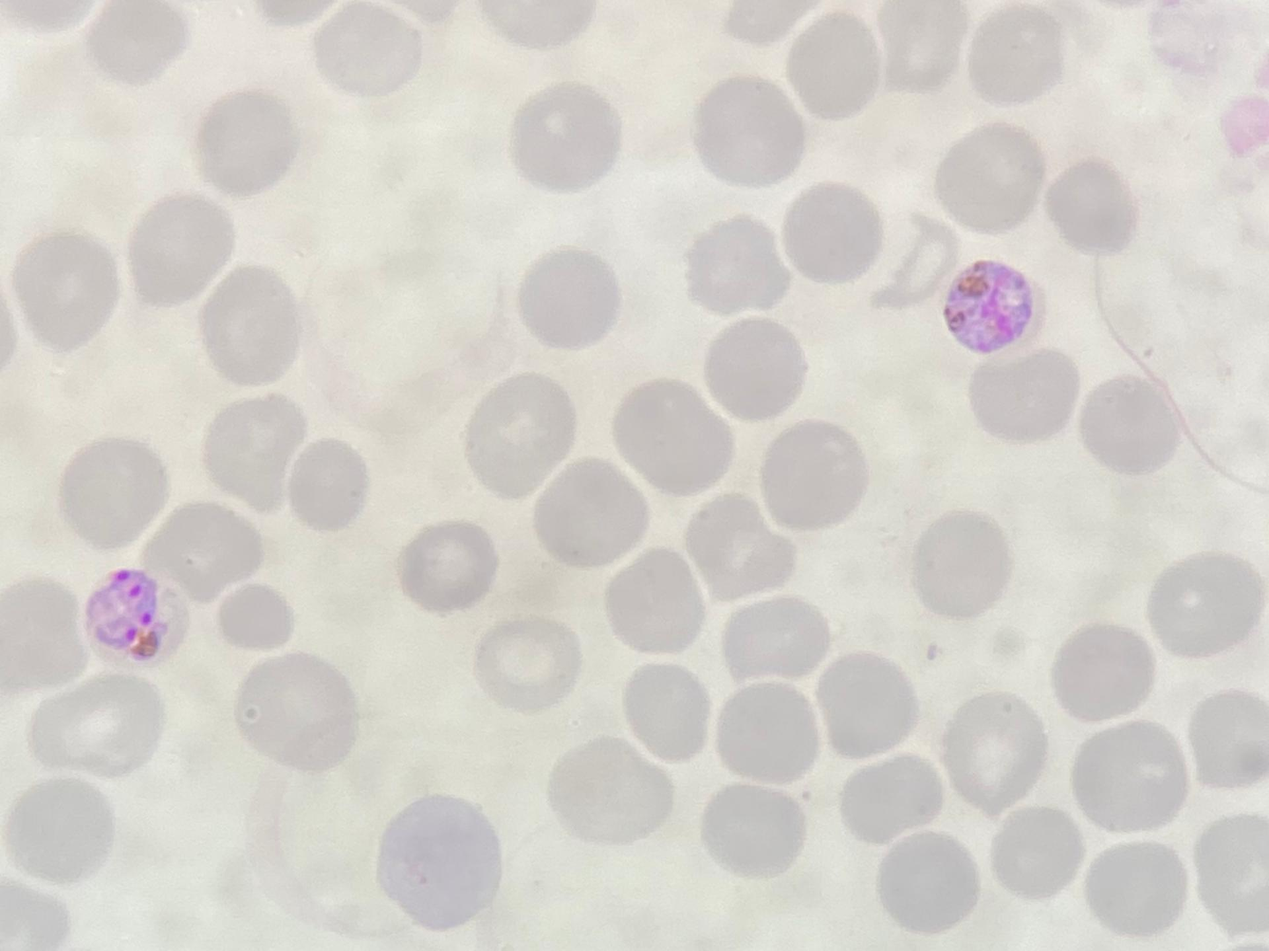Infected: (79, 560, 195, 675), (866, 212, 979, 317), (945, 252, 1049, 362)
Uninfected: (375, 793, 505, 929), (232, 653, 359, 774), (26, 673, 160, 782), (611, 377, 733, 495), (462, 371, 578, 494), (545, 736, 674, 845), (11, 227, 120, 352), (1070, 719, 1186, 833), (531, 458, 648, 569), (141, 498, 262, 605), (692, 75, 806, 186), (941, 692, 1048, 810), (198, 265, 303, 385), (200, 394, 309, 509), (683, 490, 798, 599), (1148, 549, 1259, 661), (757, 420, 869, 531), (5, 773, 116, 885), (510, 82, 623, 190), (1080, 366, 1187, 480), (57, 436, 165, 547), (933, 125, 1044, 231), (128, 194, 233, 306), (601, 546, 709, 654), (701, 314, 811, 420), (711, 678, 821, 784), (813, 650, 919, 757), (194, 89, 299, 195), (908, 512, 1012, 619), (874, 830, 981, 931), (698, 778, 808, 876), (516, 248, 621, 350), (683, 215, 790, 315), (963, 349, 1078, 442), (783, 13, 882, 120), (1081, 839, 1186, 939), (1052, 621, 1158, 720), (781, 181, 883, 283), (720, 593, 834, 684), (965, 5, 1065, 107), (471, 616, 580, 709), (311, 5, 421, 97), (837, 753, 943, 847), (0, 576, 85, 690), (397, 519, 498, 613), (619, 661, 713, 762), (1042, 155, 1138, 252), (874, 0, 970, 96), (991, 806, 1085, 901), (1194, 814, 1269, 932), (87, 1, 188, 86), (1186, 687, 1269, 788), (286, 437, 371, 530), (1149, 1, 1243, 75), (216, 581, 295, 651)
